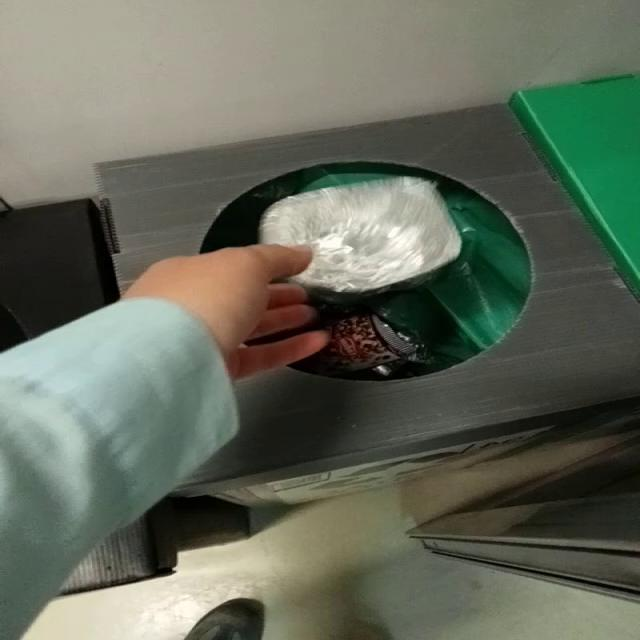metal: (259, 176, 460, 304)
